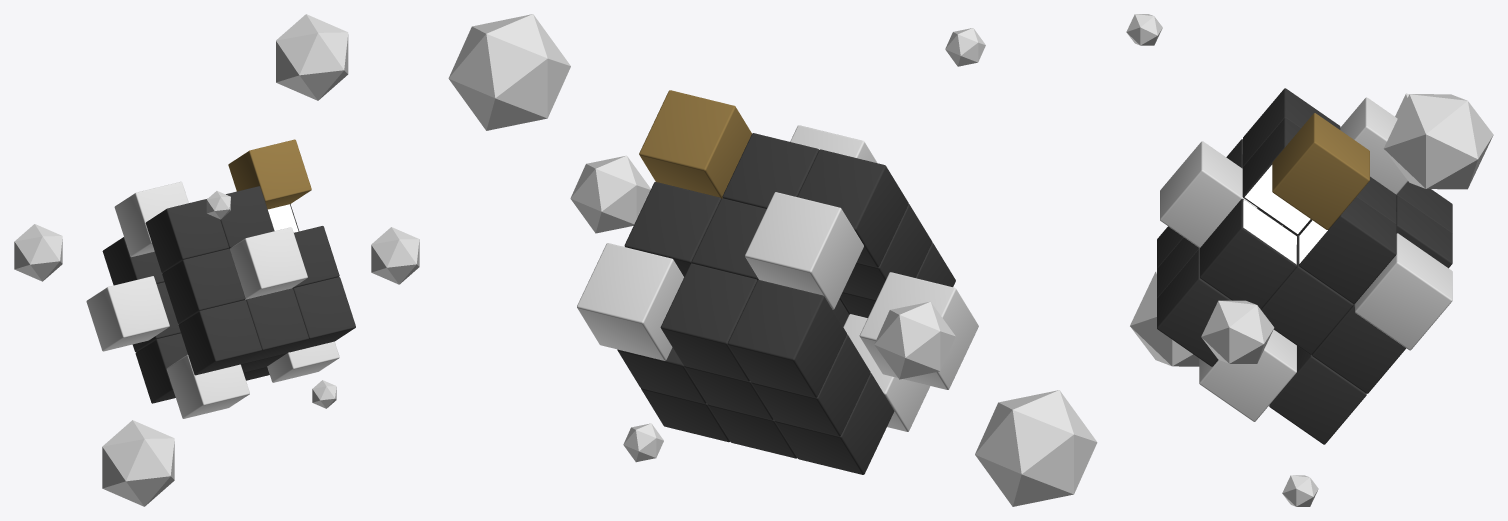
File: modelDraco7_2.gltf
3 views of the same model, side by side, from view 1: azimuth 30°, elevation 25°; view 2: azimuth 150°, elevation 25°; view 3: azimuth 270°, elevation 25° (orthographic). The views are drawn at different scales.
Parts seen in each view (by area): view 1: ChamferBox184, Hedra001.002, Hedra001.004, ChamferBox187, ChamferBox183, ChamferBox182, ChamferBox185, ChamferBox188, Hedra001.001, Hedra001.005, ChamferBox186, Group60444 (+2 smaller); view 2: ChamferBox184, Hedra001.002, Hedra001.004, ChamferBox188, ChamferBox189, ChamferBox182, ChamferBox187, Hedra001.005, Hedra001.001, ChamferBox185, ChamferBox183, Hedra001 (+1 smaller); view 3: ChamferBox184, Hedra001.004, ChamferBox182, ChamferBox189, ChamferBox183, ChamferBox186, Group60444, Hedra001.001, ChamferBox188, Hedra001.002, Hedra001.003, Hedra001.
Part boxes in pixels (box(x1,y1,x2,y2)): ChamferBox184: box(102, 186, 355, 403); Hedra001.002: box(102, 420, 174, 506); Hedra001.004: box(276, 14, 348, 100); ChamferBox187: box(86, 276, 169, 351); ChamferBox183: box(230, 227, 307, 299); ChamferBox182: box(228, 139, 311, 209); ChamferBox185: box(166, 354, 249, 418); ChamferBox188: box(114, 181, 188, 257); Hedra001.001: box(371, 227, 419, 284); Hedra001.005: box(14, 224, 62, 281); ChamferBox186: box(267, 341, 339, 382); Group60444: box(268, 204, 298, 232); ChamferBox184: box(617, 133, 955, 474); Hedra001.002: box(975, 390, 1097, 506); Hedra001.004: box(448, 14, 570, 130); ChamferBox188: box(745, 192, 863, 309); ChamferBox189: box(577, 243, 683, 360); ChamferBox182: box(639, 90, 751, 198); ChamferBox187: box(859, 272, 978, 389); Hedra001.005: box(874, 301, 955, 379); Hedra001.001: box(570, 155, 650, 233); ChamferBox185: box(843, 314, 930, 431); ChamferBox183: box(790, 125, 877, 163); Hedra001: box(945, 28, 985, 66); ChamferBox184: box(1157, 88, 1452, 444); Hedra001.004: box(1383, 94, 1493, 189); ChamferBox182: box(1272, 113, 1369, 229); ChamferBox189: box(1355, 233, 1452, 350); ChamferBox183: box(1160, 141, 1257, 247); ChamferBox186: box(1199, 329, 1296, 421); Group60444: box(1243, 165, 1327, 264); Hedra001.001: box(1201, 300, 1274, 363); ChamferBox188: box(1340, 97, 1407, 194); Hedra001.002: box(1130, 271, 1199, 366); Hedra001.003: box(1282, 475, 1318, 506); Hedra001: box(1126, 14, 1162, 45).
Bounding box in the file's own units: 309 × 298 × 227.
